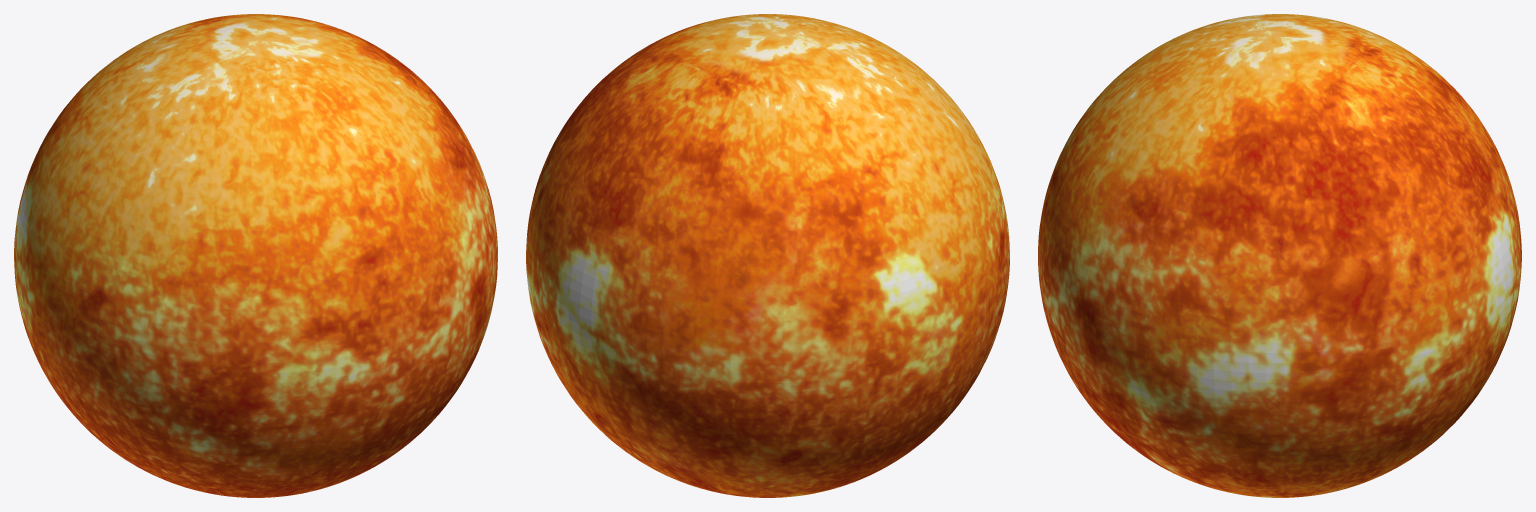
The model's file is SOL_NASA_6.gltf.
The picture shows the model from 3 angles, left to right: view 1: azimuth 30°, elevation 25°; view 2: azimuth 150°, elevation 25°; view 3: azimuth 270°, elevation 25°; orthographic projection.
Parts seen in each view (by area): view 1: Esfera; view 2: Esfera; view 3: Esfera.
Boxes of the visible parts, bbox=[...] form: Esfera: bbox=[14, 14, 497, 497]; Esfera: bbox=[526, 14, 1009, 497]; Esfera: bbox=[1038, 14, 1521, 497].
Size of the model in its own units: 20.17 by 21.15 by 20.17.
Materials: 1 (1 with a texture image).
